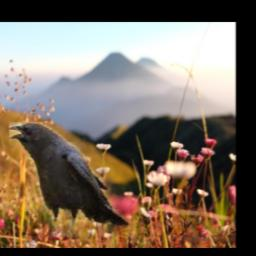Crow: (9, 122, 131, 237)
